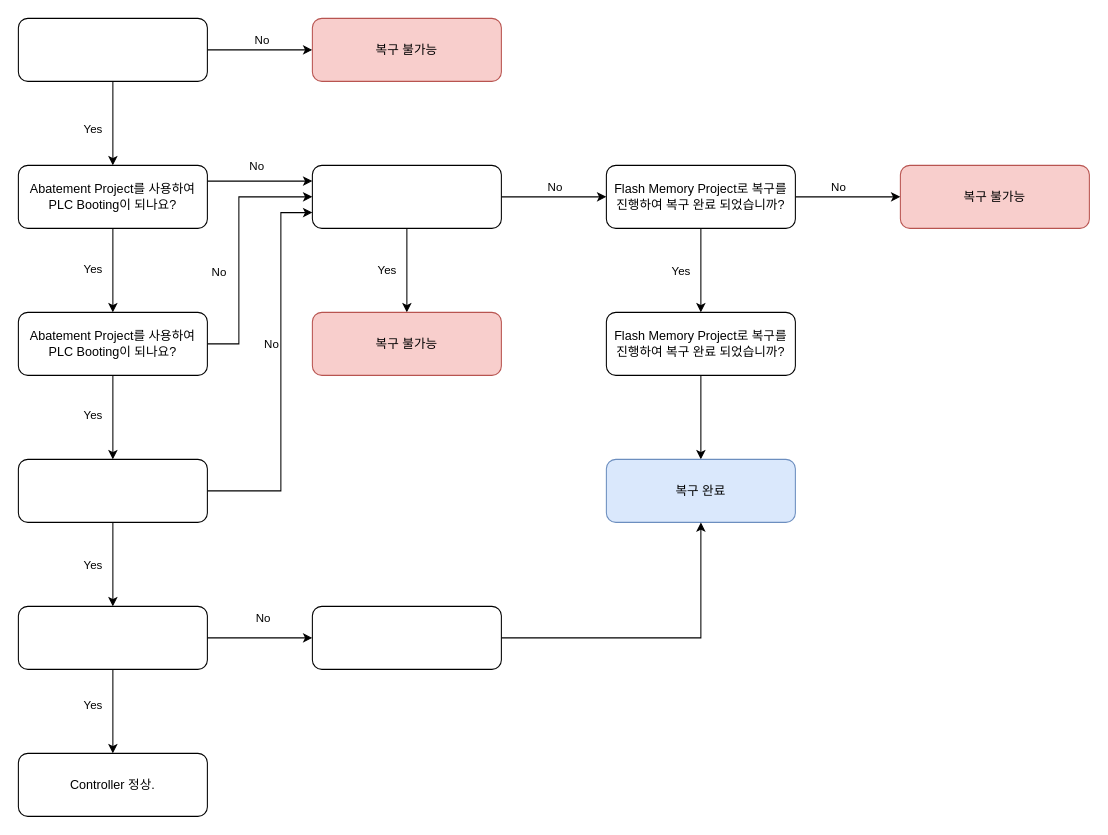
Some shapes in this 1108 by 835 pixel diagram are drawn without their labels. Each missing label, with the centre of its shape:
"Basic Porject를 사용하여 Ethernet 통신이 가능한가요?" belongs at (112,49).
"Config와 t5가 Import" belongs at (406,637).
"Config와 t5가 Import되어 있는지 확인되나요?" belongs at (112,637).
"Flash Memory가 문제가 있는지 확인하였나요? (CCODE=-1)" belongs at (406,196).
"PLC(192.168.2.200)에 접속이 가능한가요?" belongs at (112,490).
